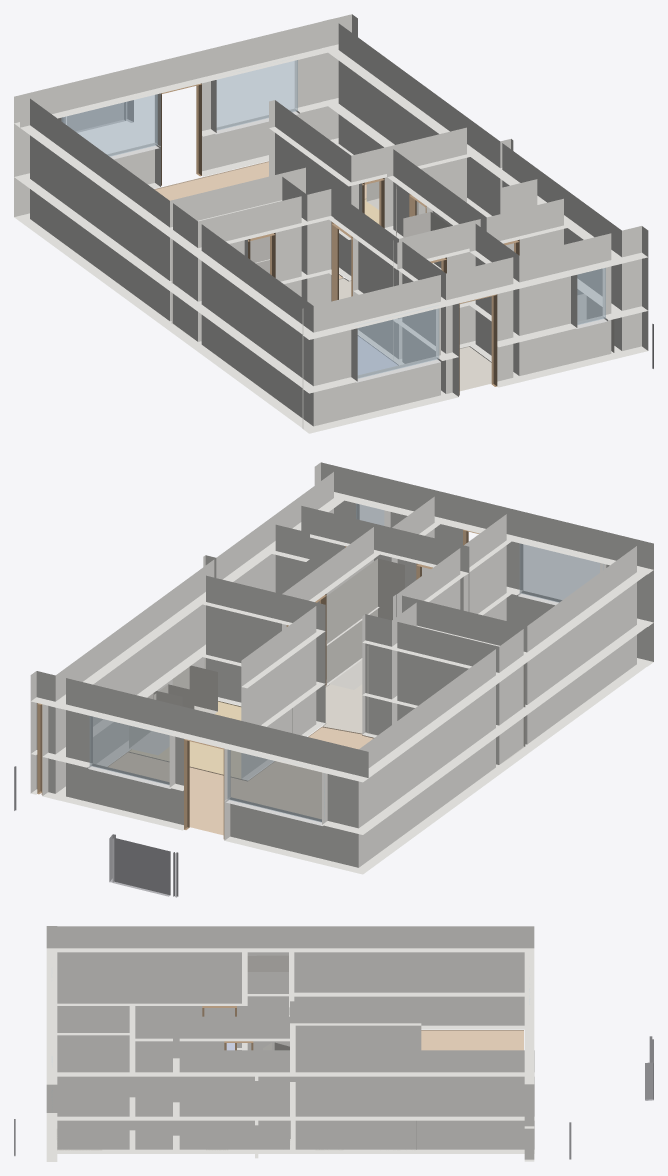
3 renders of one model, top to bottom at view 1: azimuth 30°, elevation 25°; view 2: azimuth 150°, elevation 25°; view 3: azimuth 270°, elevation 25°, orthographic. The views are drawn at different scales.
Parts seen in each view (by area): view 1: walls, window_0, window_4, window_3, floor_0_Living_Room, window_5, railings, floor_6_Entry, floor_5_Bed_Room, furniture_2_closet, door_1, door_9 (+3 smaller); view 2: walls, floor_0_Living_Room, furniture_2_closet, window_3, window_4, railings, window_0, floor_1_Kitchen, floor_2_Entry, furniture_5_appliance, furniture_3_appliance, door_2; view 3: walls, floor_0_Living_Room, furniture_0_closet, railings.
Part boxes in pixels (x1,y1,x2,y2): walls: (14,14,648,433); window_0: (354,305,439,378); window_4: (213,60,297,130); window_3: (61,94,157,156); floor_0_Living_Room: (154,161,366,278); window_5: (577,268,605,324); railings: (62,100,653,369); floor_6_Entry: (459,346,491,391); floor_5_Bed_Room: (358,335,398,374); furniture_2_closet: (403,212,449,268); door_1: (459,294,497,395); door_9: (331,222,352,301); walls: (30,462,653,874); floor_0_Living_Room: (108,726,373,835); furniture_2_closet: (327,558,404,689); window_3: (227,749,324,822); window_4: (89,716,169,784); railings: (14,766,178,897); window_0: (519,543,603,602); floor_1_Kitchen: (129,701,241,778); floor_2_Entry: (322,684,362,733); furniture_5_appliance: (172,665,217,714); furniture_3_appliance: (129,691,182,754); door_2: (184,739,224,839); walls: (46,926,534,1161); floor_0_Living_Room: (421,1030,523,1050); furniture_0_closet: (247,955,289,1014); railings: (14,1036,653,1159).
Bounding box in the file's own units: 7.95 × 2.72 × 15.76.
